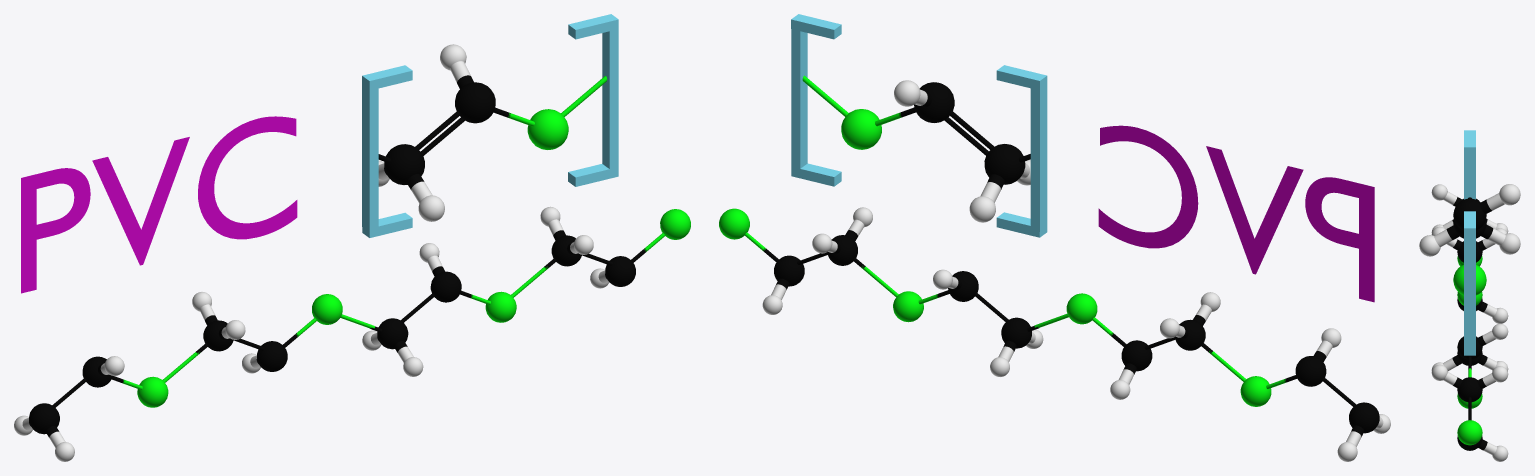
File: PVC.glb
3 renders of one model, left to right at view 1: azimuth 30°, elevation 25°; view 2: azimuth 150°, elevation 25°; view 3: azimuth 270°, elevation 25°, orthographic. The views are drawn at different scales.
Parts seen in each view (by area): view 1: Text.005, Cube.011, Cube.012, Shape_IndexedFaceSet.1700, Shape_IndexedFaceSet.1708, Shape_IndexedFaceSet.1692, Shape_IndexedFaceSet.1890, Shape_IndexedFaceSet.1919, Shape_IndexedFaceSet.1877, Shape_IndexedFaceSet.1856, Shape_IndexedFaceSet.1898, Shape_IndexedFaceSet.1911 (+3 smaller); view 2: Text.005, Cube.011, Cube.012, Shape_IndexedFaceSet.1708, Shape_IndexedFaceSet.1692, Shape_IndexedFaceSet.1700, Shape_IndexedFaceSet.1877, Shape_IndexedFaceSet.1919, Shape_IndexedFaceSet.1848, Shape_IndexedFaceSet.1856, Shape_IndexedFaceSet.1898, Shape_IndexedFaceSet.1840 (+3 smaller); view 3: Cube.012, Cube.011, Shape_IndexedFaceSet.1700, Shape_IndexedFaceSet.1919, Shape_IndexedFaceSet.1708, Shape_IndexedFaceSet.1903, Shape_IndexedFaceSet.1702, Shape_IndexedFaceSet.1693, Shape_IndexedFaceSet.1694, Shape_IndexedFaceSet.1890, Shape_IndexedFaceSet.1849, Shape_IndexedFaceSet.1892 (+13 smaller).
Part boxes in pixels (left/top/right/bottom): Text.005: left=21, top=116, right=297, bottom=293; Cube.011: left=362, top=65, right=412, bottom=237; Cube.012: left=568, top=14, right=618, bottom=186; Shape_IndexedFaceSet.1700: left=455, top=82, right=495, bottom=123; Shape_IndexedFaceSet.1708: left=527, top=109, right=568, bottom=149; Shape_IndexedFaceSet.1692: left=384, top=144, right=424, bottom=184; Shape_IndexedFaceSet.1890: left=430, top=271, right=461, bottom=302; Shape_IndexedFaceSet.1919: left=660, top=209, right=690, bottom=239; Shape_IndexedFaceSet.1877: left=312, top=294, right=342, bottom=324; Shape_IndexedFaceSet.1856: left=137, top=376, right=168, bottom=407; Shape_IndexedFaceSet.1898: left=485, top=291, right=516, bottom=322; Shape_IndexedFaceSet.1911: left=605, top=256, right=635, bottom=286; Text.005: left=1098, top=125, right=1374, bottom=302; Cube.011: left=996, top=65, right=1047, bottom=237; Cube.012: left=791, top=14, right=841, bottom=186; Shape_IndexedFaceSet.1708: left=841, top=109, right=881, bottom=149; Shape_IndexedFaceSet.1692: left=984, top=144, right=1025, bottom=184; Shape_IndexedFaceSet.1700: left=914, top=82, right=954, bottom=122; Shape_IndexedFaceSet.1877: left=1066, top=293, right=1097, bottom=324; Shape_IndexedFaceSet.1919: left=719, top=208, right=749, bottom=239; Shape_IndexedFaceSet.1848: left=1295, top=356, right=1326, bottom=386; Shape_IndexedFaceSet.1856: left=1240, top=376, right=1271, bottom=406; Shape_IndexedFaceSet.1898: left=893, top=291, right=923, bottom=322; Shape_IndexedFaceSet.1840: left=1349, top=402, right=1379, bottom=433; Cube.012: left=1464, top=211, right=1475, bottom=355; Cube.011: left=1464, top=130, right=1475, bottom=199; Shape_IndexedFaceSet.1700: left=1453, top=198, right=1486, bottom=230; Shape_IndexedFaceSet.1919: left=1457, top=420, right=1482, bottom=445; Shape_IndexedFaceSet.1708: left=1453, top=265, right=1486, bottom=295; Shape_IndexedFaceSet.1903: left=1457, top=377, right=1482, bottom=401; Shape_IndexedFaceSet.1702: left=1499, top=184, right=1520, bottom=205; Shape_IndexedFaceSet.1693: left=1419, top=235, right=1440, bottom=256; Shape_IndexedFaceSet.1694: left=1499, top=233, right=1520, bottom=254; Shape_IndexedFaceSet.1890: left=1457, top=336, right=1482, bottom=359; Shape_IndexedFaceSet.1849: left=1431, top=184, right=1447, bottom=200; Shape_IndexedFaceSet.1892: left=1492, top=323, right=1508, bottom=339.
Bounding box in the file's own units: 145 × 60.94 × 23.66.
